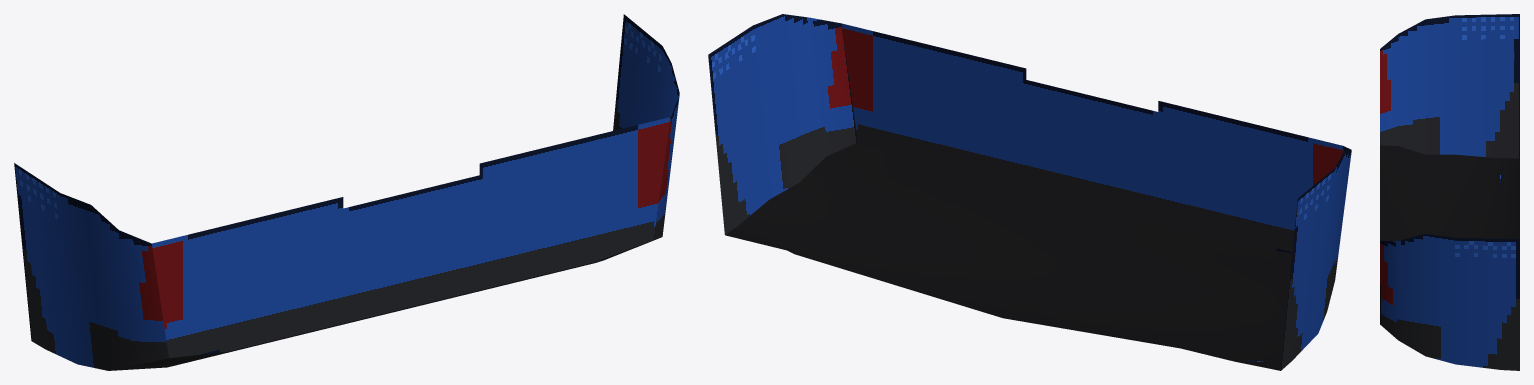
File: bumper_R_stock.glb
The picture shows the model from 3 angles, left to right: view 1: azimuth 30°, elevation 25°; view 2: azimuth 150°, elevation 25°; view 3: azimuth 270°, elevation 25°; orthographic projection. The views are drawn at different scales.
Parts seen in each view (by area): view 1: bumper_R_stock; view 2: bumper_R_stock; view 3: bumper_R_stock.
Boxes of the visible parts, <box> form: bumper_R_stock: <box>14,14,679,370</box>; bumper_R_stock: <box>708,14,1351,370</box>; bumper_R_stock: <box>1380,14,1519,370</box>.
Bounding box in the file's own units: 1.76 × 0.5469 × 0.4625.
Materials: 1 (1 with a texture image).
